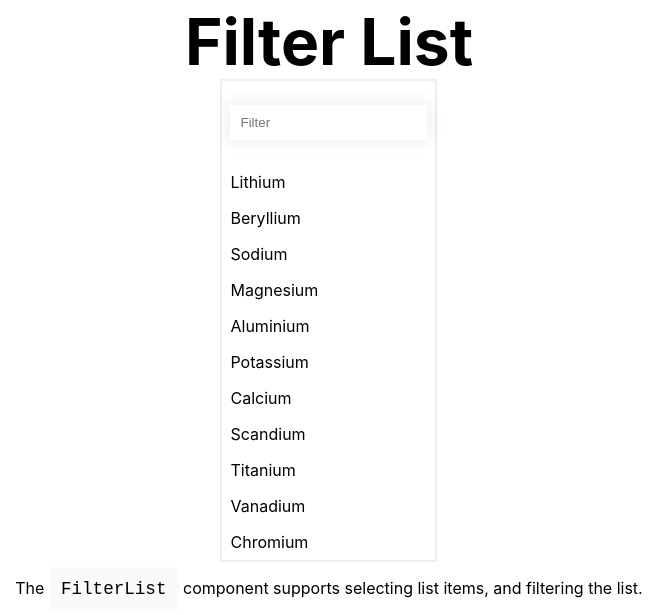
Scenario: FilterList › interaction - user-events › filtering › should filter by parts of words
Step 1. Type "mi" into the field with placeholder "Filter" → {"x": 329, "y": 122}, box [230,105,428,140]
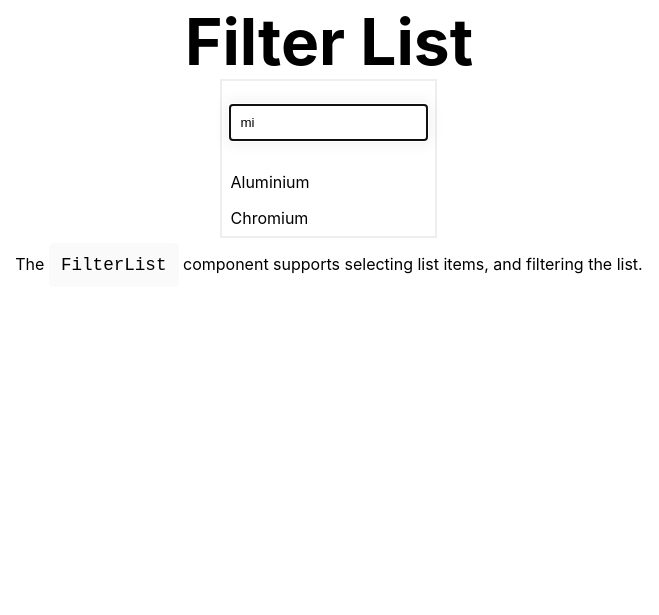
Expected: the list item "Aluminium" is shown, [230,172,310,192]
Expected: the number of list items is 2, [230,172,310,192]; [230,208,308,228]
